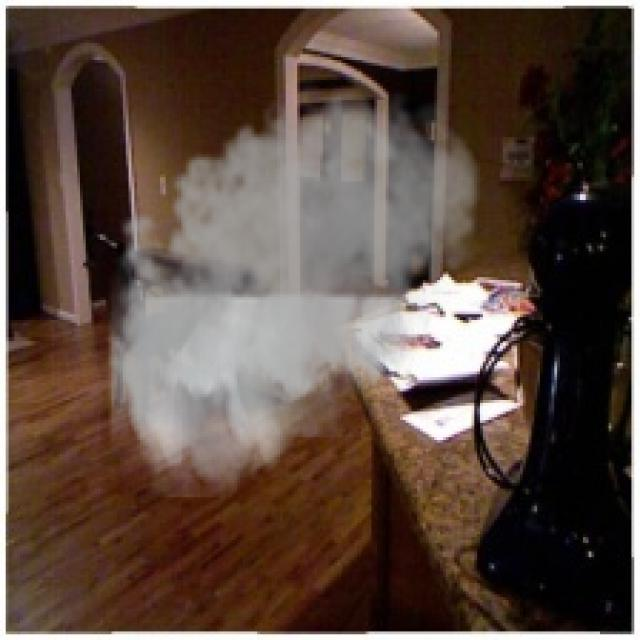smoke: (94, 72, 489, 497)
